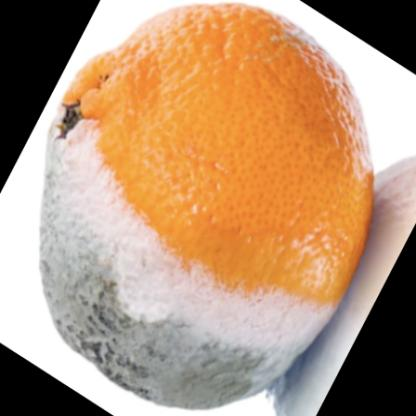rotten: (40, 6, 377, 412)
